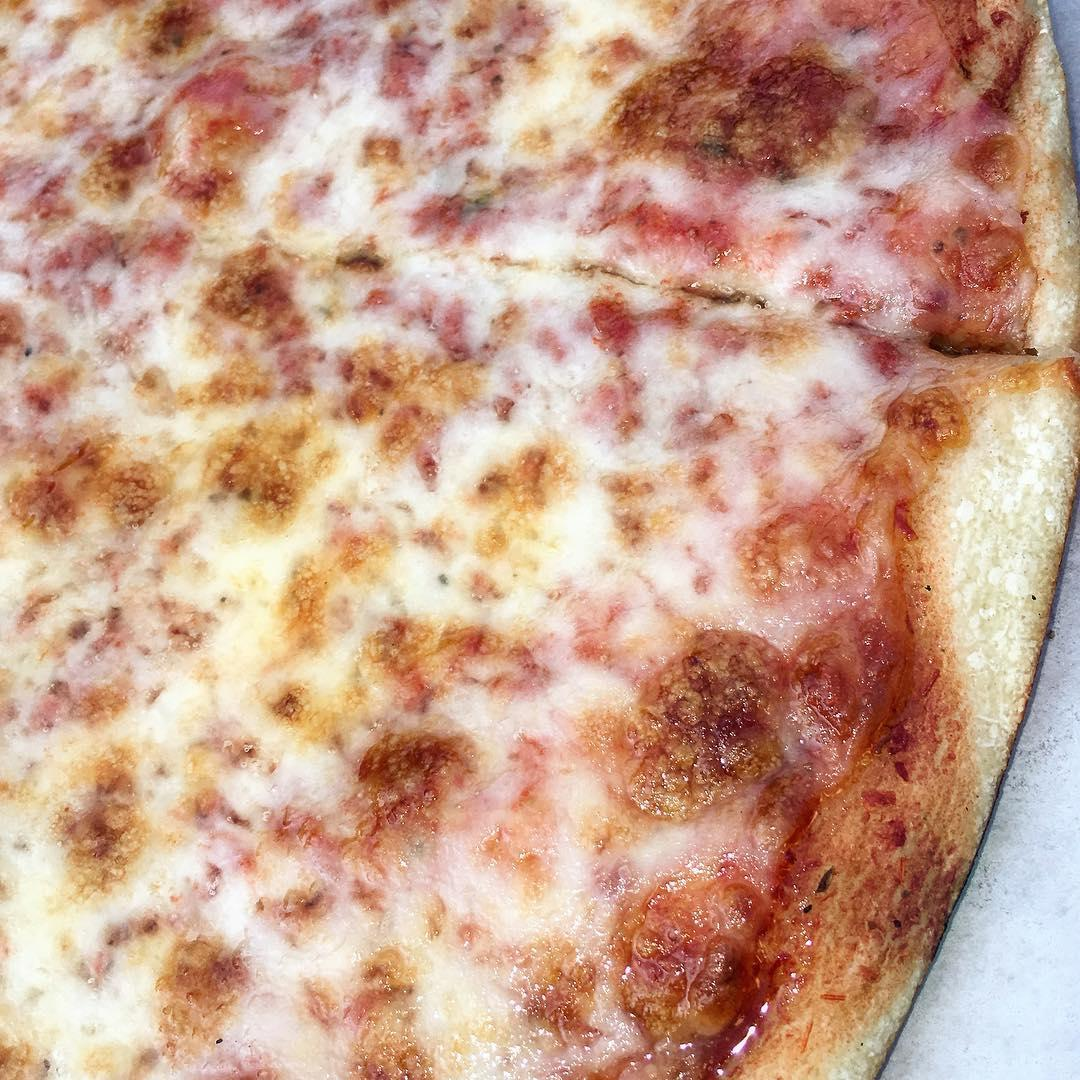Cheese: (0, 7, 628, 1071), (653, 281, 820, 584)
Pizza: (0, 0, 1080, 1080)
